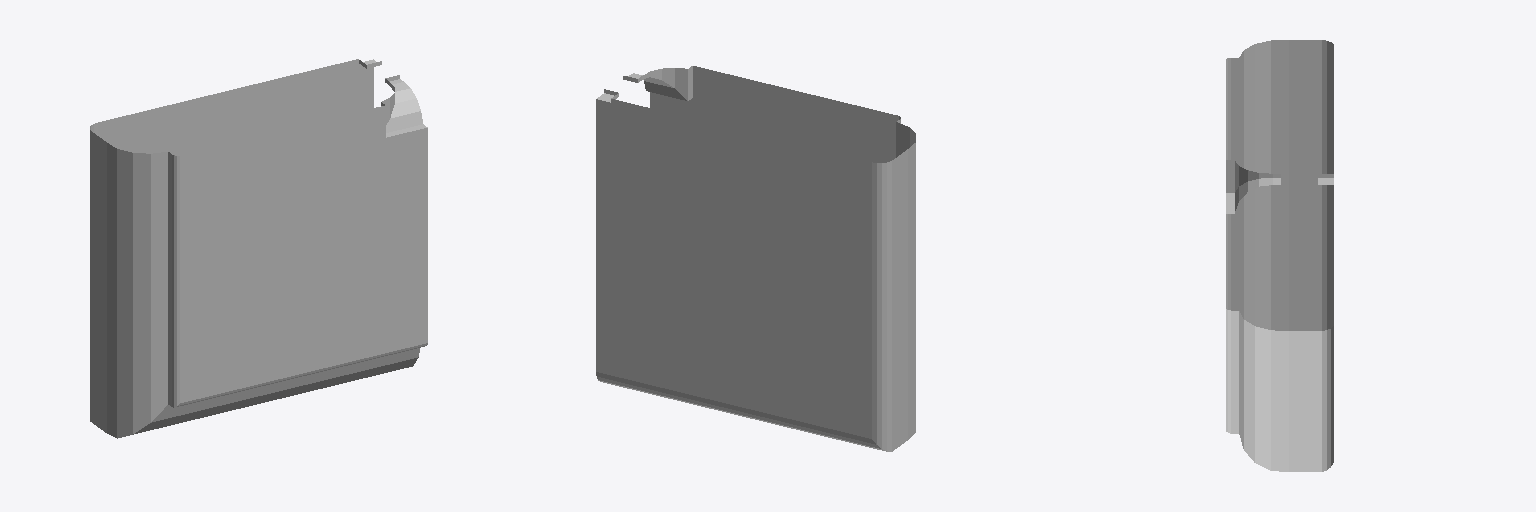
The model's file is original-37.obj.
The picture shows the model from 3 angles: view 1: azimuth 30°, elevation 25°; view 2: azimuth 150°, elevation 25°; view 3: azimuth 270°, elevation 25°; orthographic projection.
Parts seen in each view (by area): view 1: DF_12_BL1/DF_12_BL/mesh25/mesh25-geometry#mesh25-geometry; view 2: DF_12_BL1/DF_12_BL/mesh25/mesh25-geometry#mesh25-geometry; view 3: DF_12_BL1/DF_12_BL/mesh25/mesh25-geometry#mesh25-geometry.
Part boxes in pixels (bbox=[...]): DF_12_BL1/DF_12_BL/mesh25/mesh25-geometry#mesh25-geometry: bbox=[90, 59, 427, 438]; DF_12_BL1/DF_12_BL/mesh25/mesh25-geometry#mesh25-geometry: bbox=[596, 66, 915, 451]; DF_12_BL1/DF_12_BL/mesh25/mesh25-geometry#mesh25-geometry: bbox=[1226, 40, 1333, 471].
Size of the model in its own units: 0.1004 by 0.0966 by 0.0327.